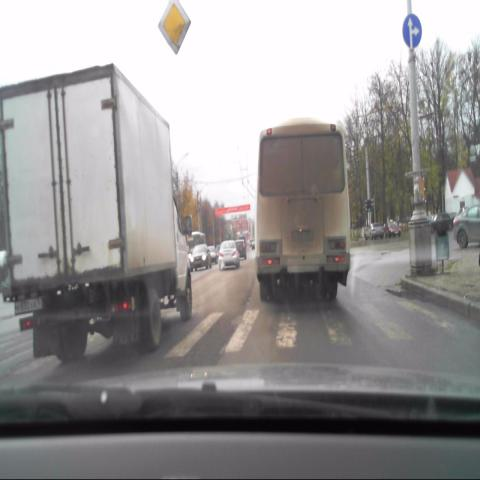4_1_4: (400, 13, 422, 50)
